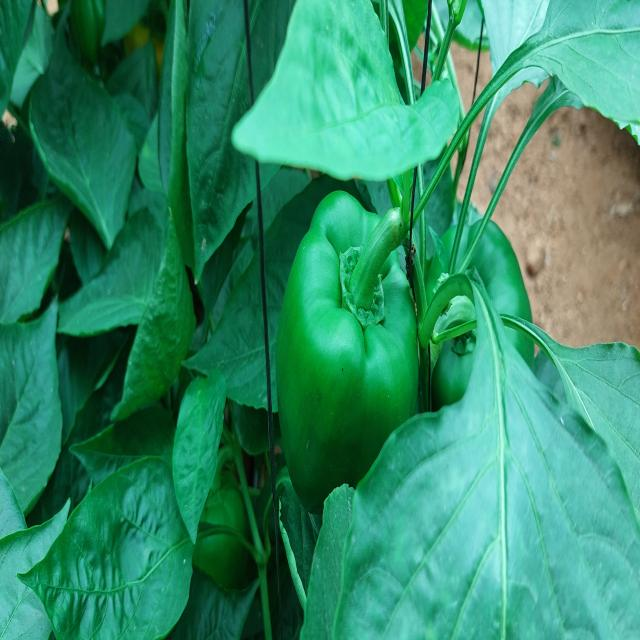Green--Not-ready-to-harvest: (280, 189, 421, 534), (425, 217, 536, 458)
